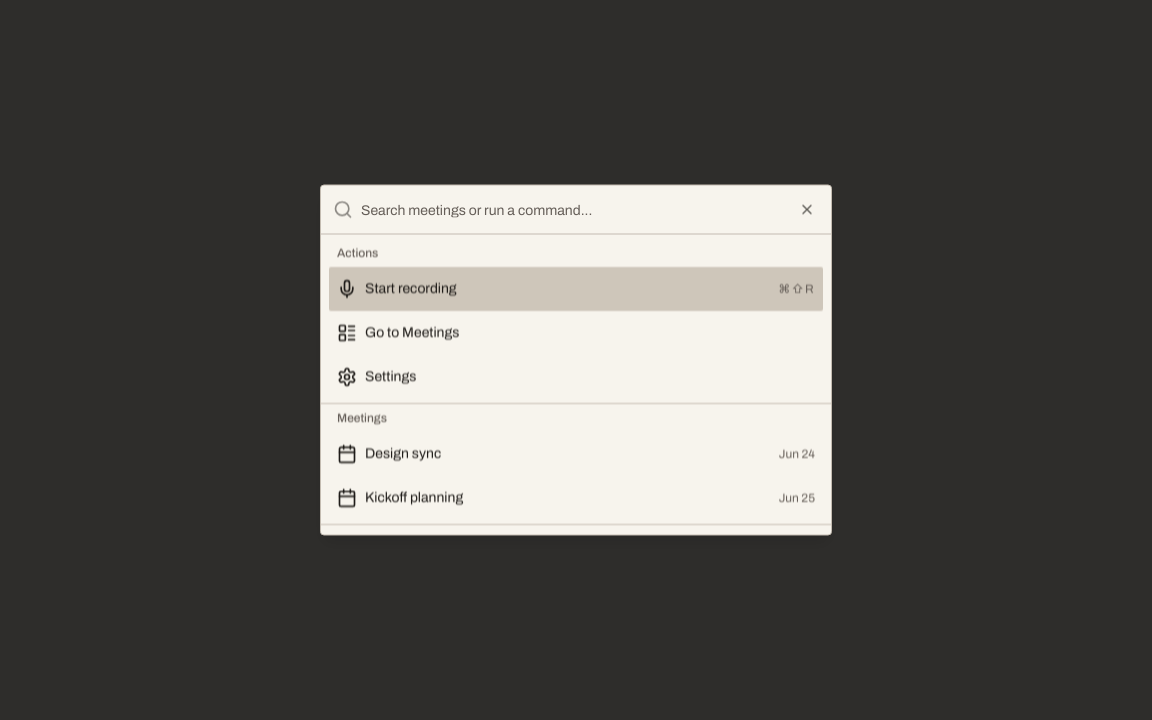
Test: CommandPalette — full-text search tier (specs/0033) › filters the title tier manually while the backend search is active
Check: the text "Design sync" is shown, box [365,446,441,460]
In the dropdown with placeholder "Search meetings or run a command...": (590, 210) [361,186,819,234], type "kickoff"
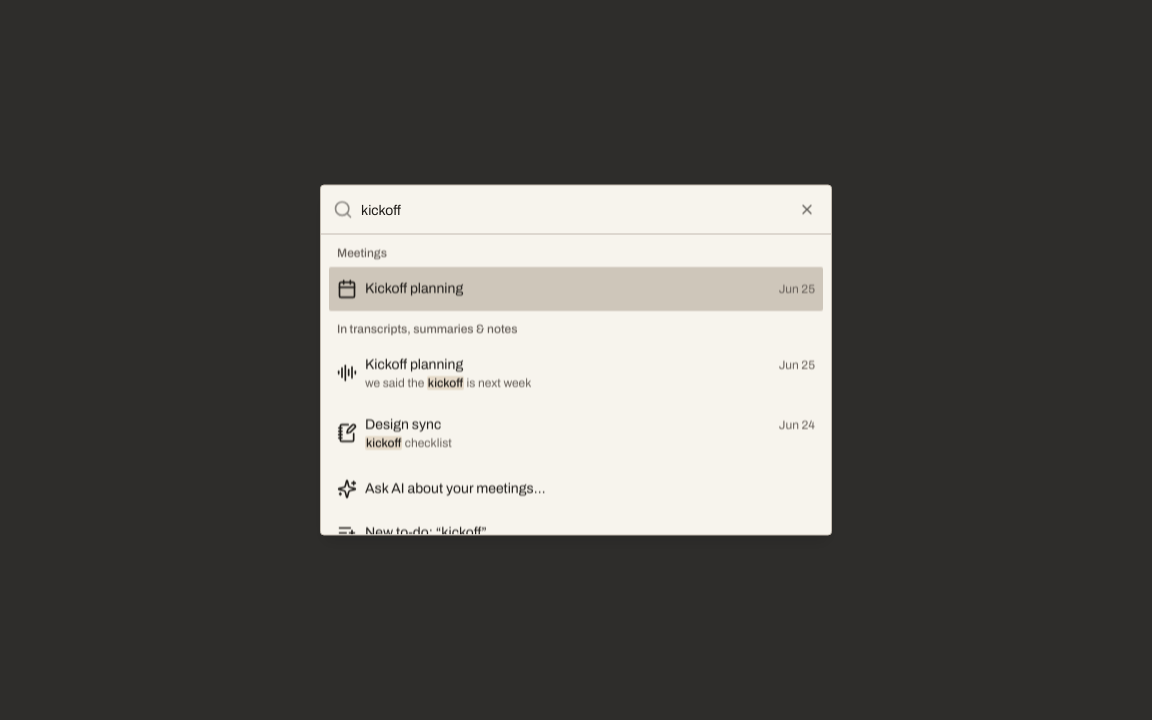
Check: the text "In transcripts, summaries & notes" is shown, box [337,322,518,336]
Check: the option "Start recording" is gone
